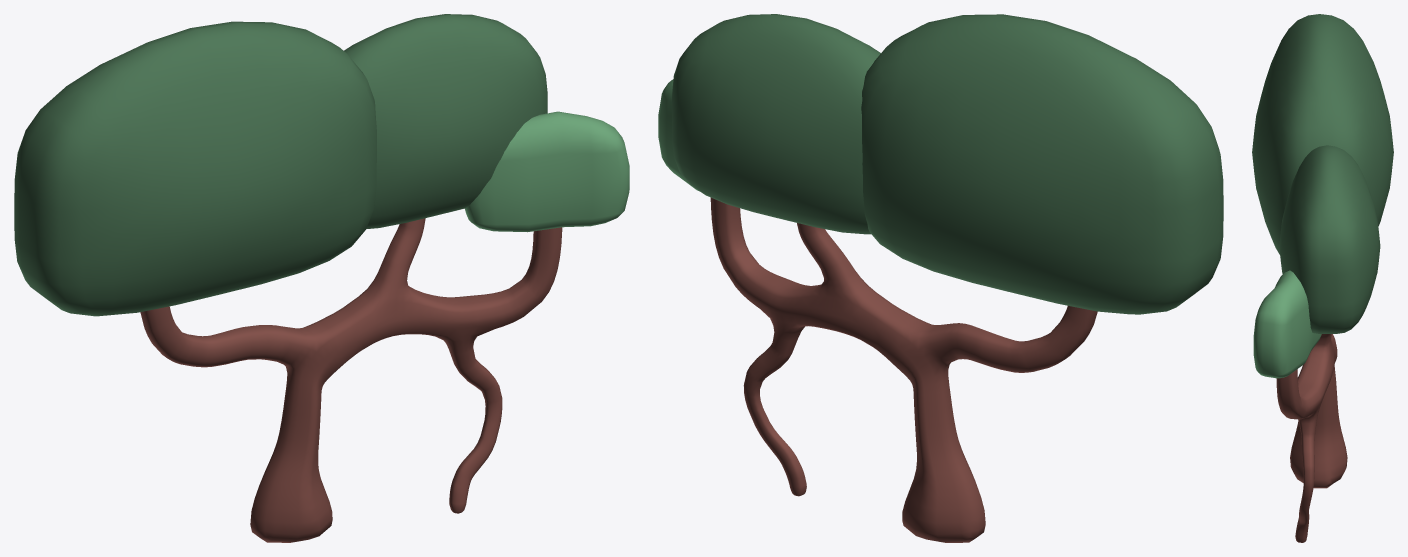
The model's file is Large_Tree.fbx.
3 renders of one model, left to right at view 1: azimuth 30°, elevation 25°; view 2: azimuth 150°, elevation 25°; view 3: azimuth 270°, elevation 25°, orthographic. The views are drawn at different scales.
Parts seen in each view (by area): view 1: Tree_Top_1_Large_Basic_Leaves1; view 2: Tree_Top_1_Large_Basic_Leaves1; view 3: Tree_Top_1_Large_Basic_Leaves1.
Part boxes in pixels (x1,y1,x2,y2): Tree_Top_1_Large_Basic_Leaves1: [14, 14, 629, 542]; Tree_Top_1_Large_Basic_Leaves1: [658, 14, 1223, 542]; Tree_Top_1_Large_Basic_Leaves1: [1252, 14, 1393, 542].
Size of the model in its own units: 38.8 by 34.78 by 10.78.
